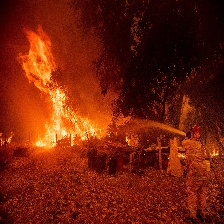fire: (18, 31, 100, 146)
